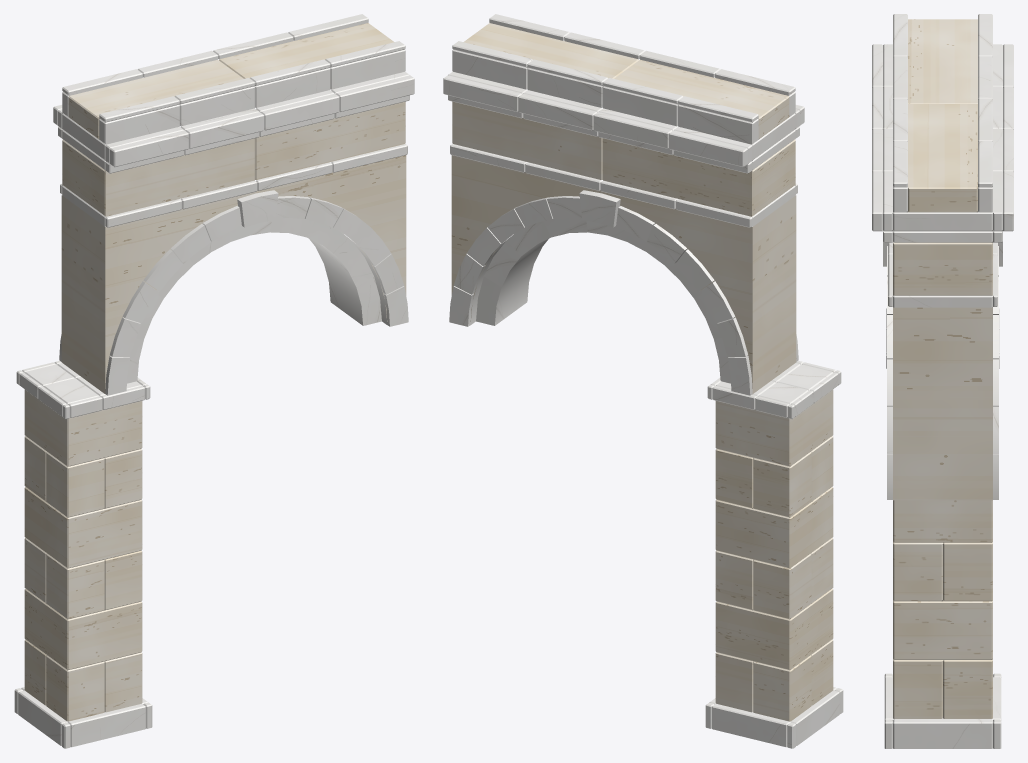
3 renders of one model, left to right at view 1: azimuth 30°, elevation 25°; view 2: azimuth 150°, elevation 25°; view 3: azimuth 270°, elevation 25°, orthographic. The views are drawn at different scales.
Visible parts, largest first — view 1: Mesh_arcade_bay; view 2: Mesh_arcade_bay; view 3: Mesh_arcade_bay.
Boxes of the visible parts, x1,y1,x2,y2 form: Mesh_arcade_bay: (14, 14, 414, 748); Mesh_arcade_bay: (443, 14, 843, 748); Mesh_arcade_bay: (872, 14, 1013, 748).
Size of the model in its own units: 5.5 by 9.4 by 1.7.
1 material, 1 textured.
